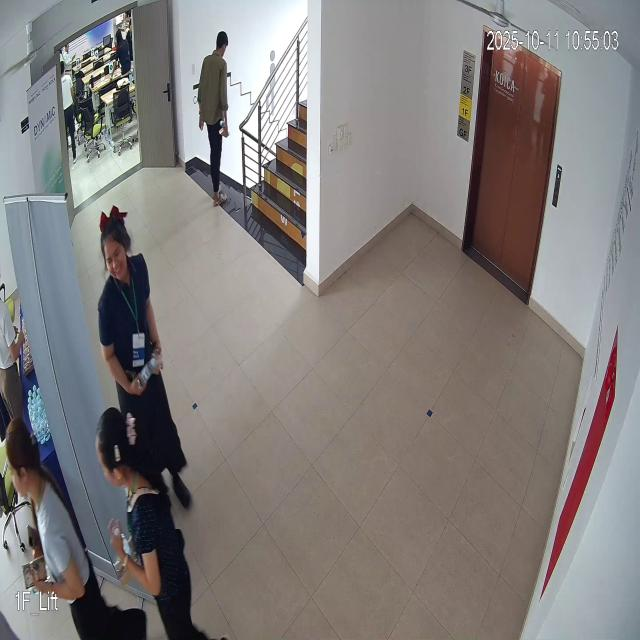face: (96, 206, 134, 283)
